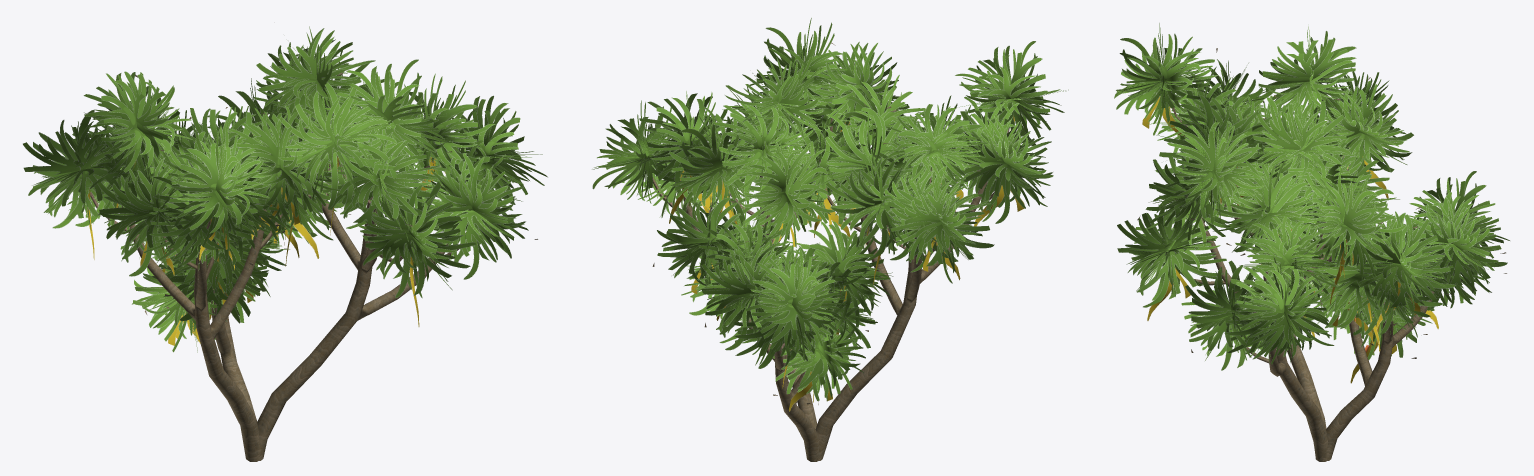
The model's file is Agac_meyedan.fbx.
3 renders of one model, left to right at view 1: azimuth 30°, elevation 25°; view 2: azimuth 150°, elevation 25°; view 3: azimuth 270°, elevation 25°, orthographic. The views are drawn at different scales.
Parts seen in each view (by area): view 1: Pandanace2_LOD0; view 2: Pandanace2_LOD0; view 3: Pandanace2_LOD0.
Boxes of the visible parts, <box> form: Pandanace2_LOD0: <box>23,26,547,461</box>; Pandanace2_LOD0: <box>592,18,1068,461</box>; Pandanace2_LOD0: <box>1114,23,1509,461</box>.
Size of the model in its own units: 1020 by 863 by 850.
